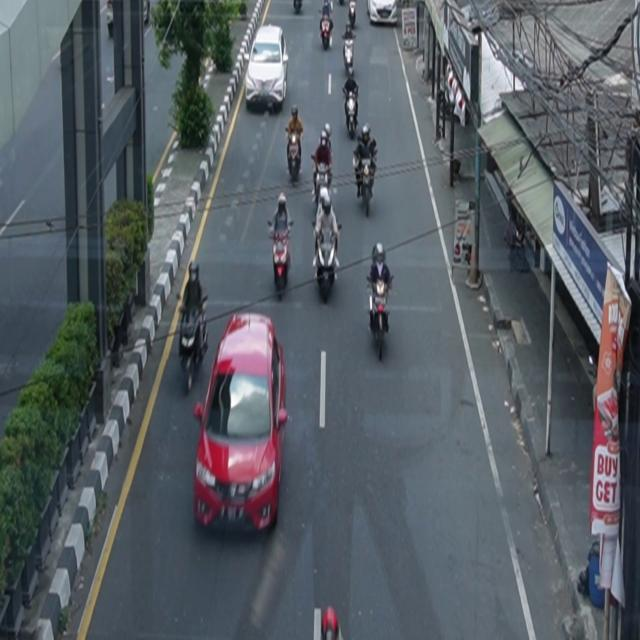car: (194, 313, 289, 534), (246, 25, 289, 114)
